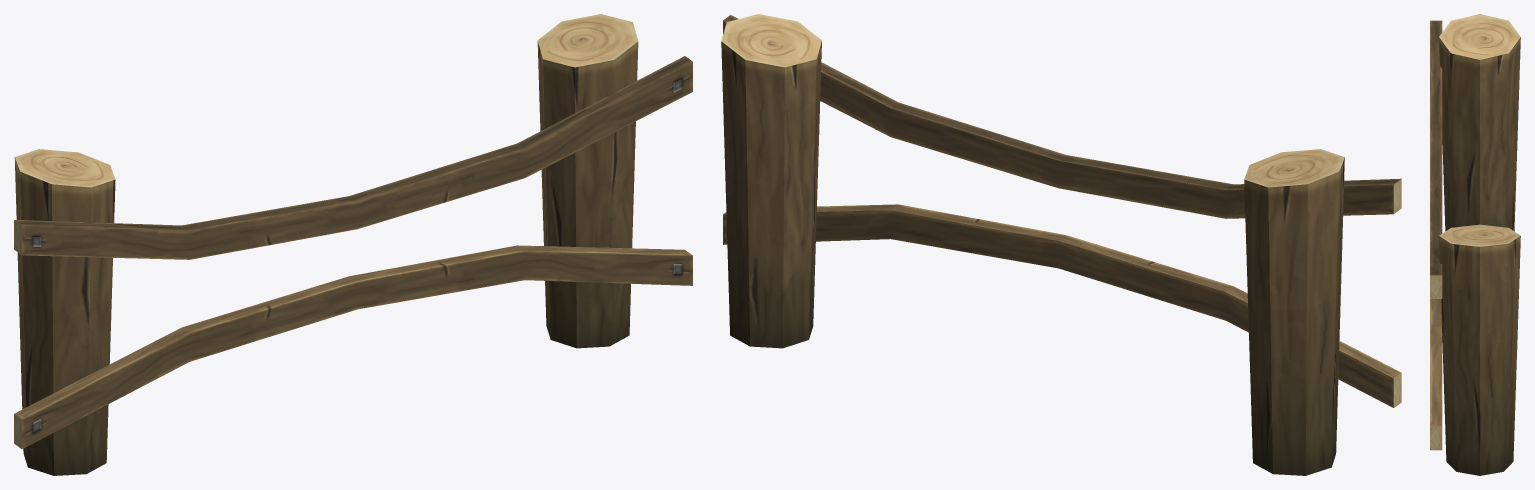
Rendered from wooden_fence_54.fbx.
3 views of the same model, side by side, from view 1: azimuth 30°, elevation 25°; view 2: azimuth 150°, elevation 25°; view 3: azimuth 270°, elevation 25° (orthographic). The views are drawn at different scales.
Parts seen in each view (by area): view 1: wooden_fence_54:Mesh; view 2: wooden_fence_54:Mesh; view 3: wooden_fence_54:Mesh.
Boxes of the visible parts, bbox=[...] form: wooden_fence_54:Mesh: bbox=[14, 14, 692, 475]; wooden_fence_54:Mesh: bbox=[721, 14, 1401, 475]; wooden_fence_54:Mesh: bbox=[1430, 14, 1520, 475].
Size of the model in its own units: 6.98 by 2.96 by 1.05.
